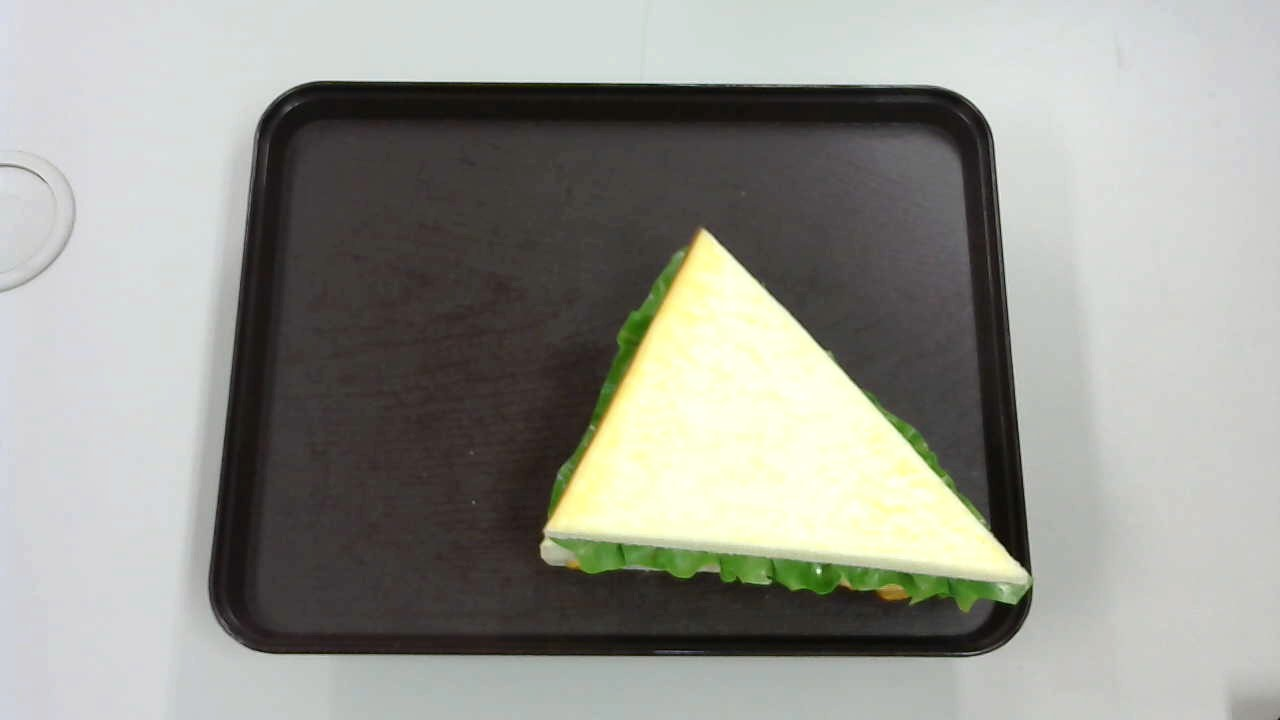sandwich: (538, 226, 1032, 616)
